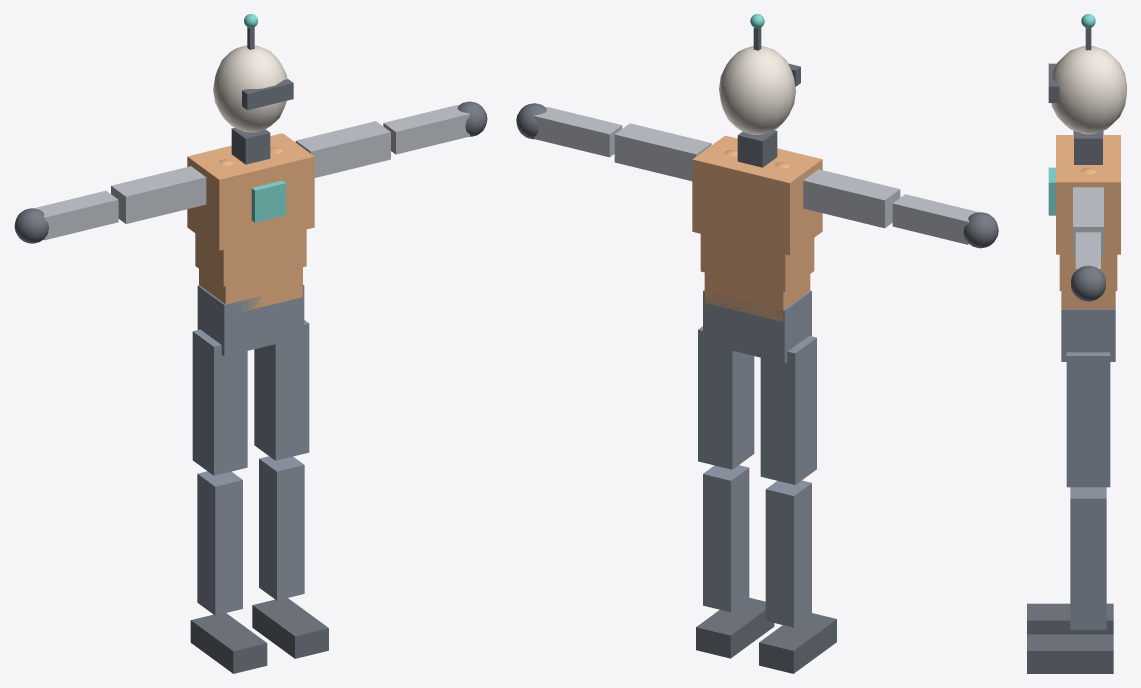
The model's file is esempio.glb.
3 views of the same model, side by side, from view 1: azimuth 30°, elevation 25°; view 2: azimuth 150°, elevation 25°; view 3: azimuth 270°, elevation 25° (orthographic). The views are drawn at different scales.
Parts seen in each view (by area): view 1: Spine2, RightUpLeg, LeftUpLeg, RightLeg, LeftLeg, Head, Hips, Spine1, RightArm, LeftArm, RightFoot, LeftFoot (+5 smaller); view 2: Spine2, RightUpLeg, LeftUpLeg, RightLeg, LeftLeg, Head, Hips, Spine1, RightArm, LeftArm, RightFoot, LeftFoot (+6 smaller); view 3: LeftUpLeg, Head, LeftLeg, Spine2, LeftFoot, Hips, RightFoot, LeftArm, Spine1, LeftHand, Neck, LeftForeArm (+1 smaller).
Part boxes in pixels (left/top/right/bottom): Spine2: left=187, top=133, right=314, bottom=250; RightUpLeg: left=192, top=329, right=247, bottom=475; LeftUpLeg: left=254, top=320, right=309, bottom=460; RightLeg: left=197, top=471, right=242, bottom=615; LeftLeg: left=259, top=456, right=304, bottom=600; Head: left=213, top=14, right=293, bottom=132; Hips: left=197, top=284, right=304, bottom=356; Spine1: left=195, top=229, right=306, bottom=286; RightArm: left=111, top=166, right=206, bottom=223; LeftArm: left=295, top=121, right=390, bottom=177; RightFoot: left=190, top=613, right=267, bottom=673; LeftFoot: left=252, top=598, right=328, bottom=658; Spine2: left=692, top=135, right=822, bottom=255; RightUpLeg: left=760, top=335, right=816, bottom=484; LeftUpLeg: left=698, top=326, right=754, bottom=469; RightLeg: left=765, top=480, right=811, bottom=627; LeftLeg: left=703, top=465, right=749, bottom=612; Head: left=719, top=14, right=800, bottom=134; Hips: left=703, top=290, right=811, bottom=363; Spine1: left=700, top=234, right=814, bottom=291; RightArm: left=803, top=169, right=900, bottom=228; LeftArm: left=614, top=123, right=711, bottom=181; RightFoot: left=759, top=613, right=836, bottom=673; LeftFoot: left=696, top=597, right=774, bottom=658; LeftUpLeg: left=1066, top=352, right=1110, bottom=487; Head: left=1048, top=14, right=1126, bottom=134; LeftLeg: left=1070, top=487, right=1106, bottom=629; Spine2: left=1048, top=135, right=1120, bottom=254; LeftFoot: left=1027, top=634, right=1113, bottom=673; Hips: left=1061, top=309, right=1115, bottom=361; RightFoot: left=1027, top=603, right=1113, bottom=634; LeftArm: left=1073, top=187, right=1103, bottom=254; Spine1: left=1059, top=254, right=1117, bottom=290; LeftHand: left=1071, top=265, right=1105, bottom=301; Neck: left=1074, top=131, right=1102, bottom=164; LeftForeArm: left=1075, top=232, right=1100, bottom=270.
Bounding box in the file's own units: 1.52 × 1.94 × 0.2765.
